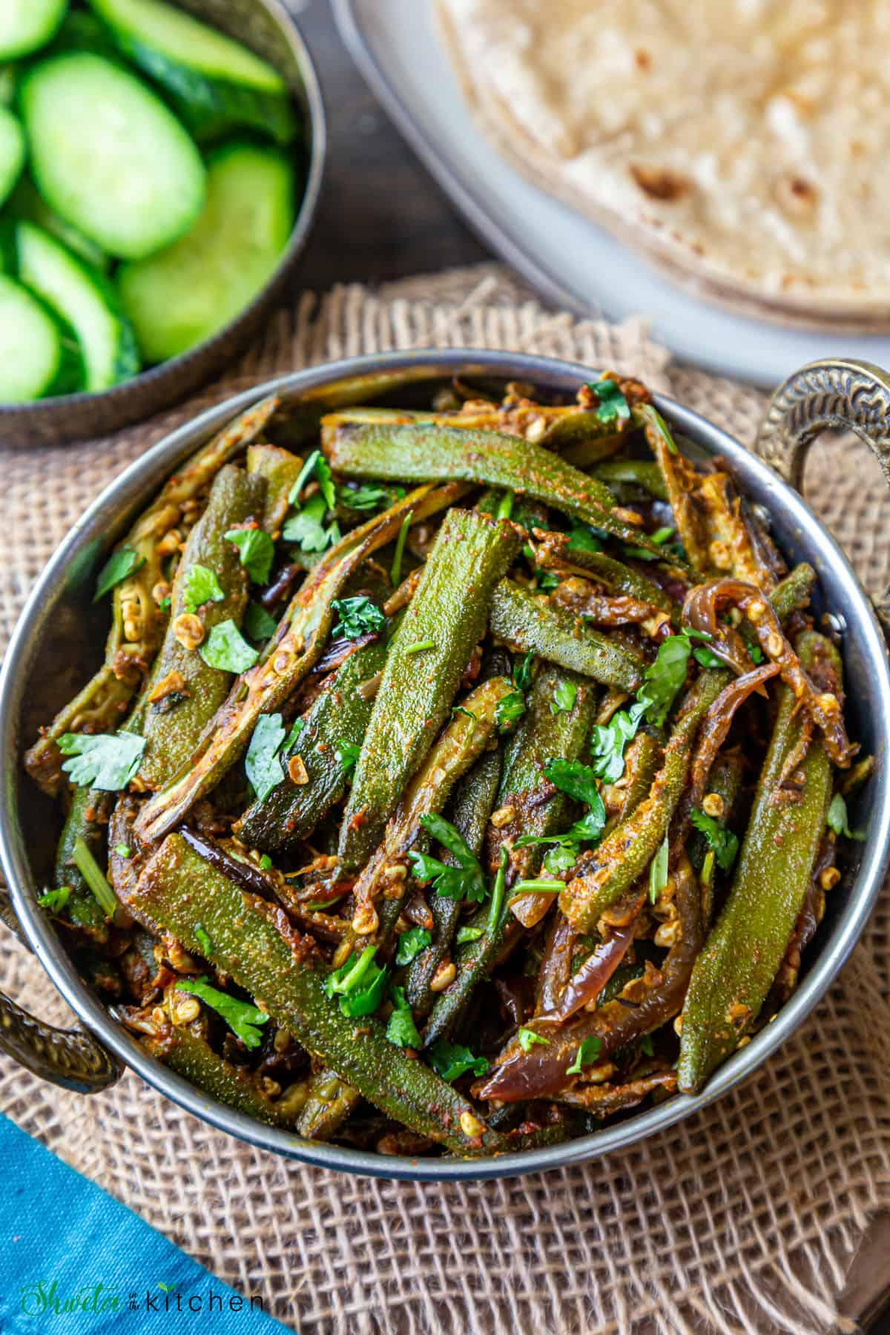bhindi: (135, 454, 890, 1145)
roti phulka: (454, 0, 890, 294)
salad: (0, 0, 279, 361)
